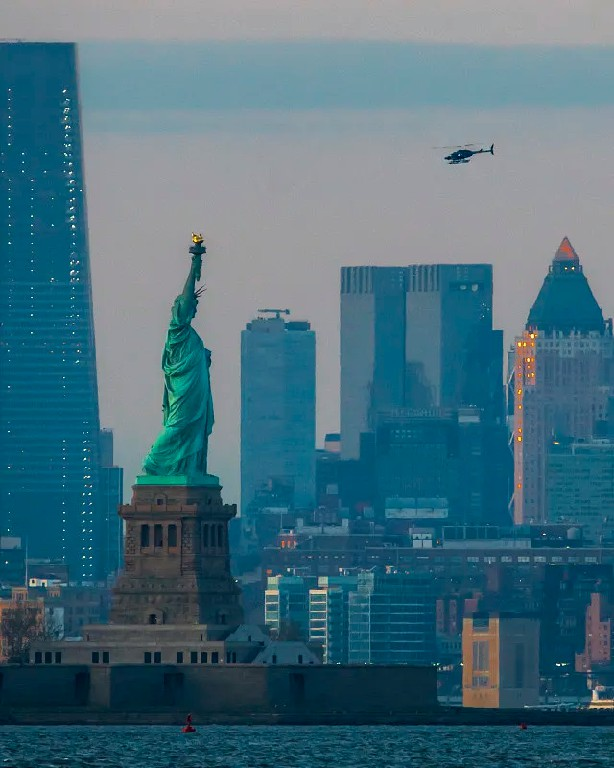SL: (109, 231, 245, 626)
